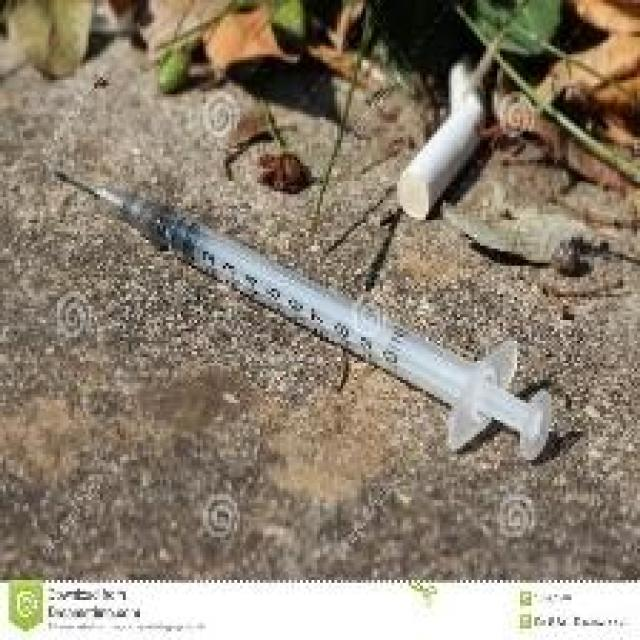syringe: (49, 143, 612, 476)
